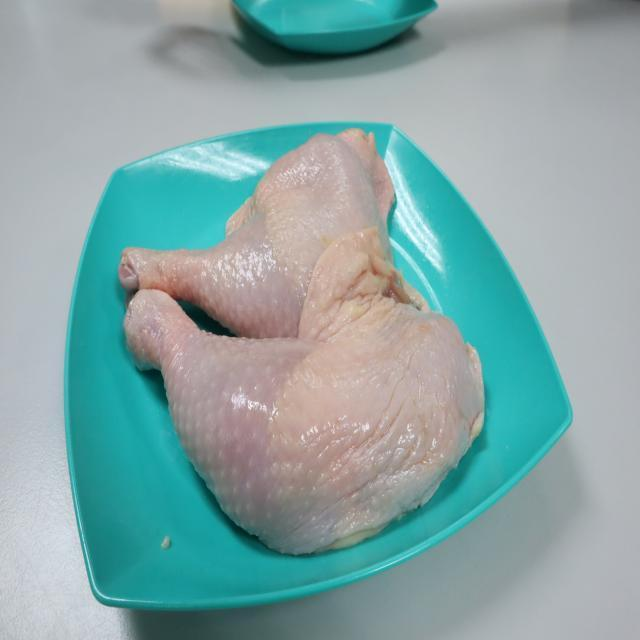quater: (113, 264, 490, 548), (108, 120, 420, 327)
